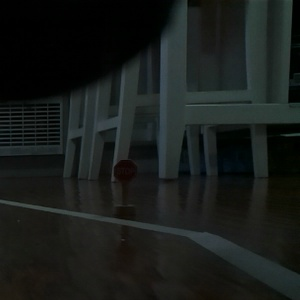stop sign: (112, 159, 138, 217)
